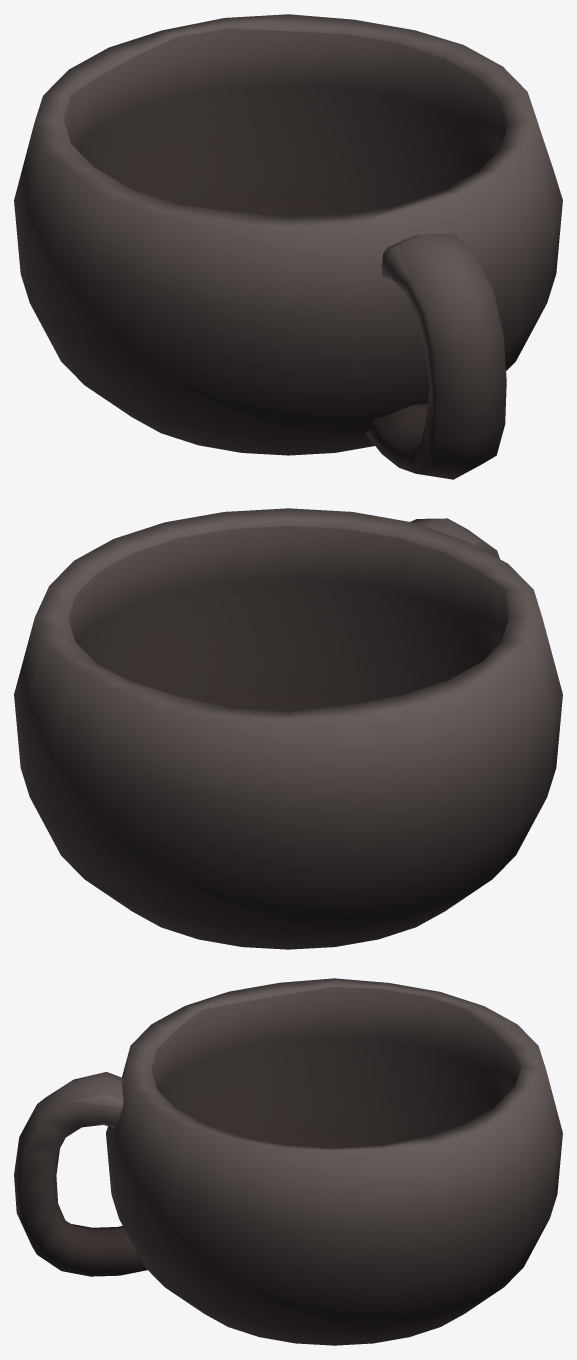
File: cup_005.fbx
3 views of the same model, one above another, from view 1: azimuth 30°, elevation 25°; view 2: azimuth 150°, elevation 25°; view 3: azimuth 270°, elevation 25° (orthographic). The views are drawn at different scales.
Visible parts, largest first — view 1: cup_005; view 2: cup_005; view 3: cup_005.
Part boxes in pixels (<box>): cup_005: <box>14,14,562,479</box>; cup_005: <box>14,508,562,949</box>; cup_005: <box>14,978,562,1345</box>.
Size of the model in its own units: 9.85 by 11.83 by 5.57.
